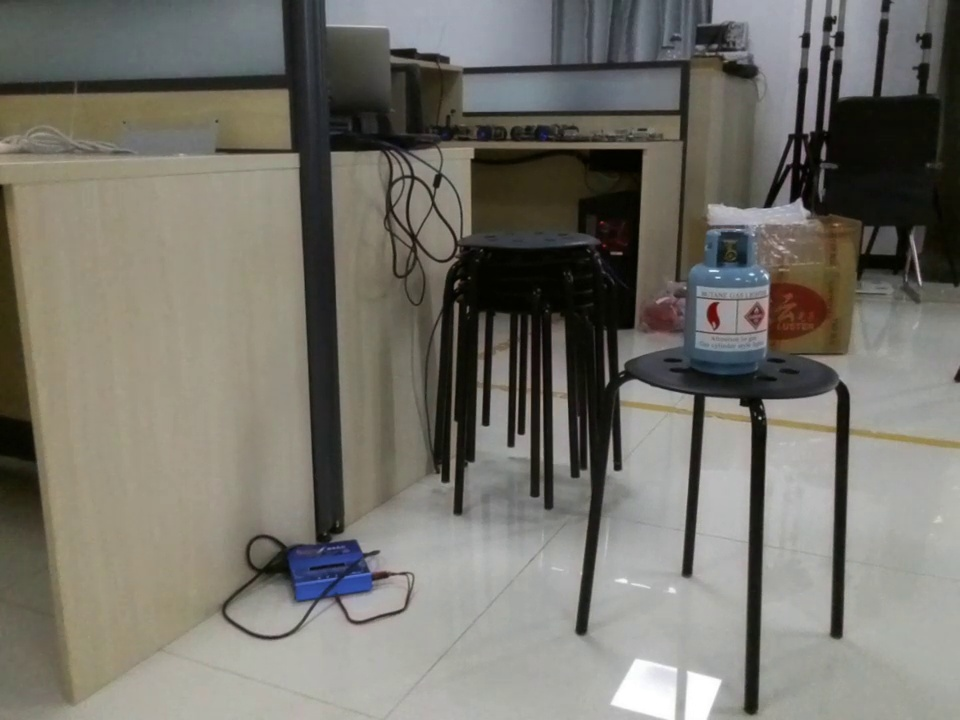gas tank: (681, 220, 786, 385)
